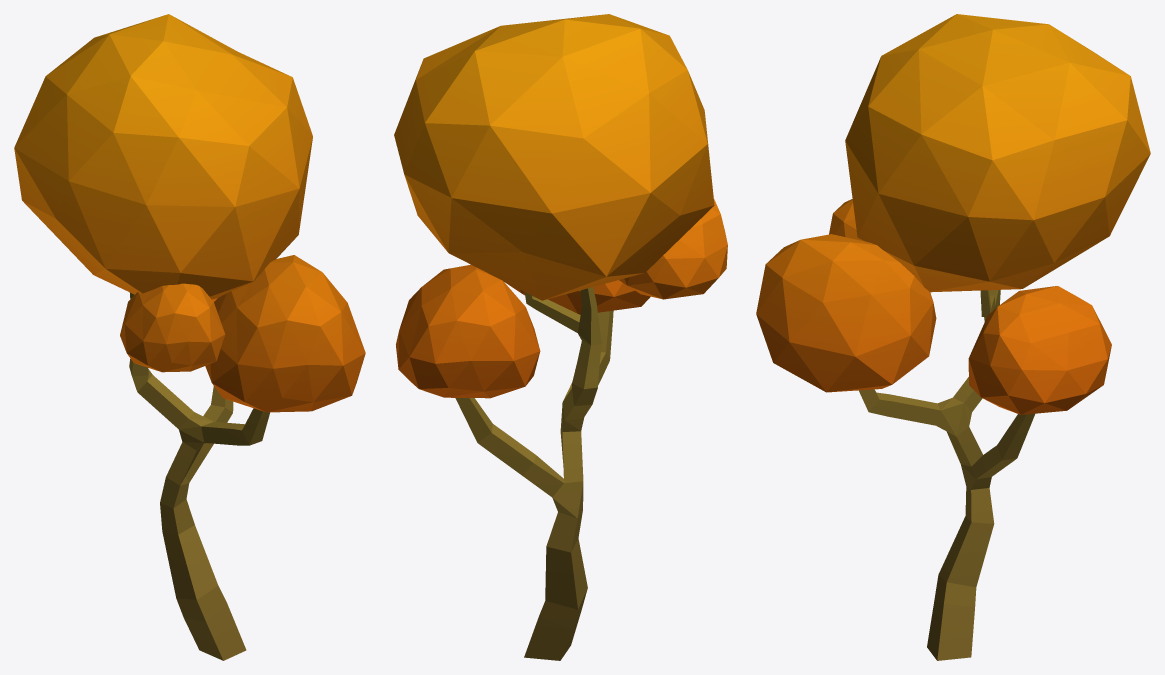
Rendered from tree_5.fbx.
3 renders of one model, left to right at view 1: azimuth 30°, elevation 25°; view 2: azimuth 150°, elevation 25°; view 3: azimuth 270°, elevation 25°, orthographic. The views are drawn at different scales.
Parts seen in each view (by area): view 1: tree_5; view 2: tree_5; view 3: tree_5.
Part boxes in pixels (x1,y1,x2,y2): tree_5: (14, 14, 365, 660); tree_5: (394, 14, 727, 660); tree_5: (756, 14, 1150, 660).
Bounding box in the file's own units: 2.29 × 5.24 × 3.1.
